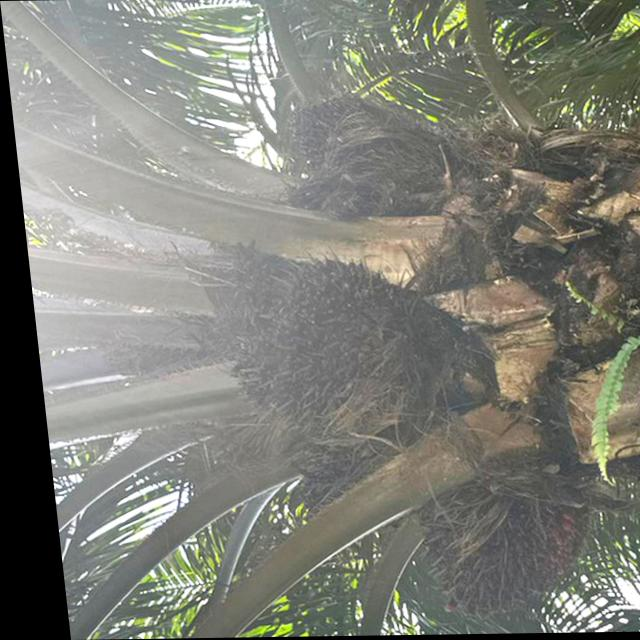ripe: (193, 237, 459, 464)
